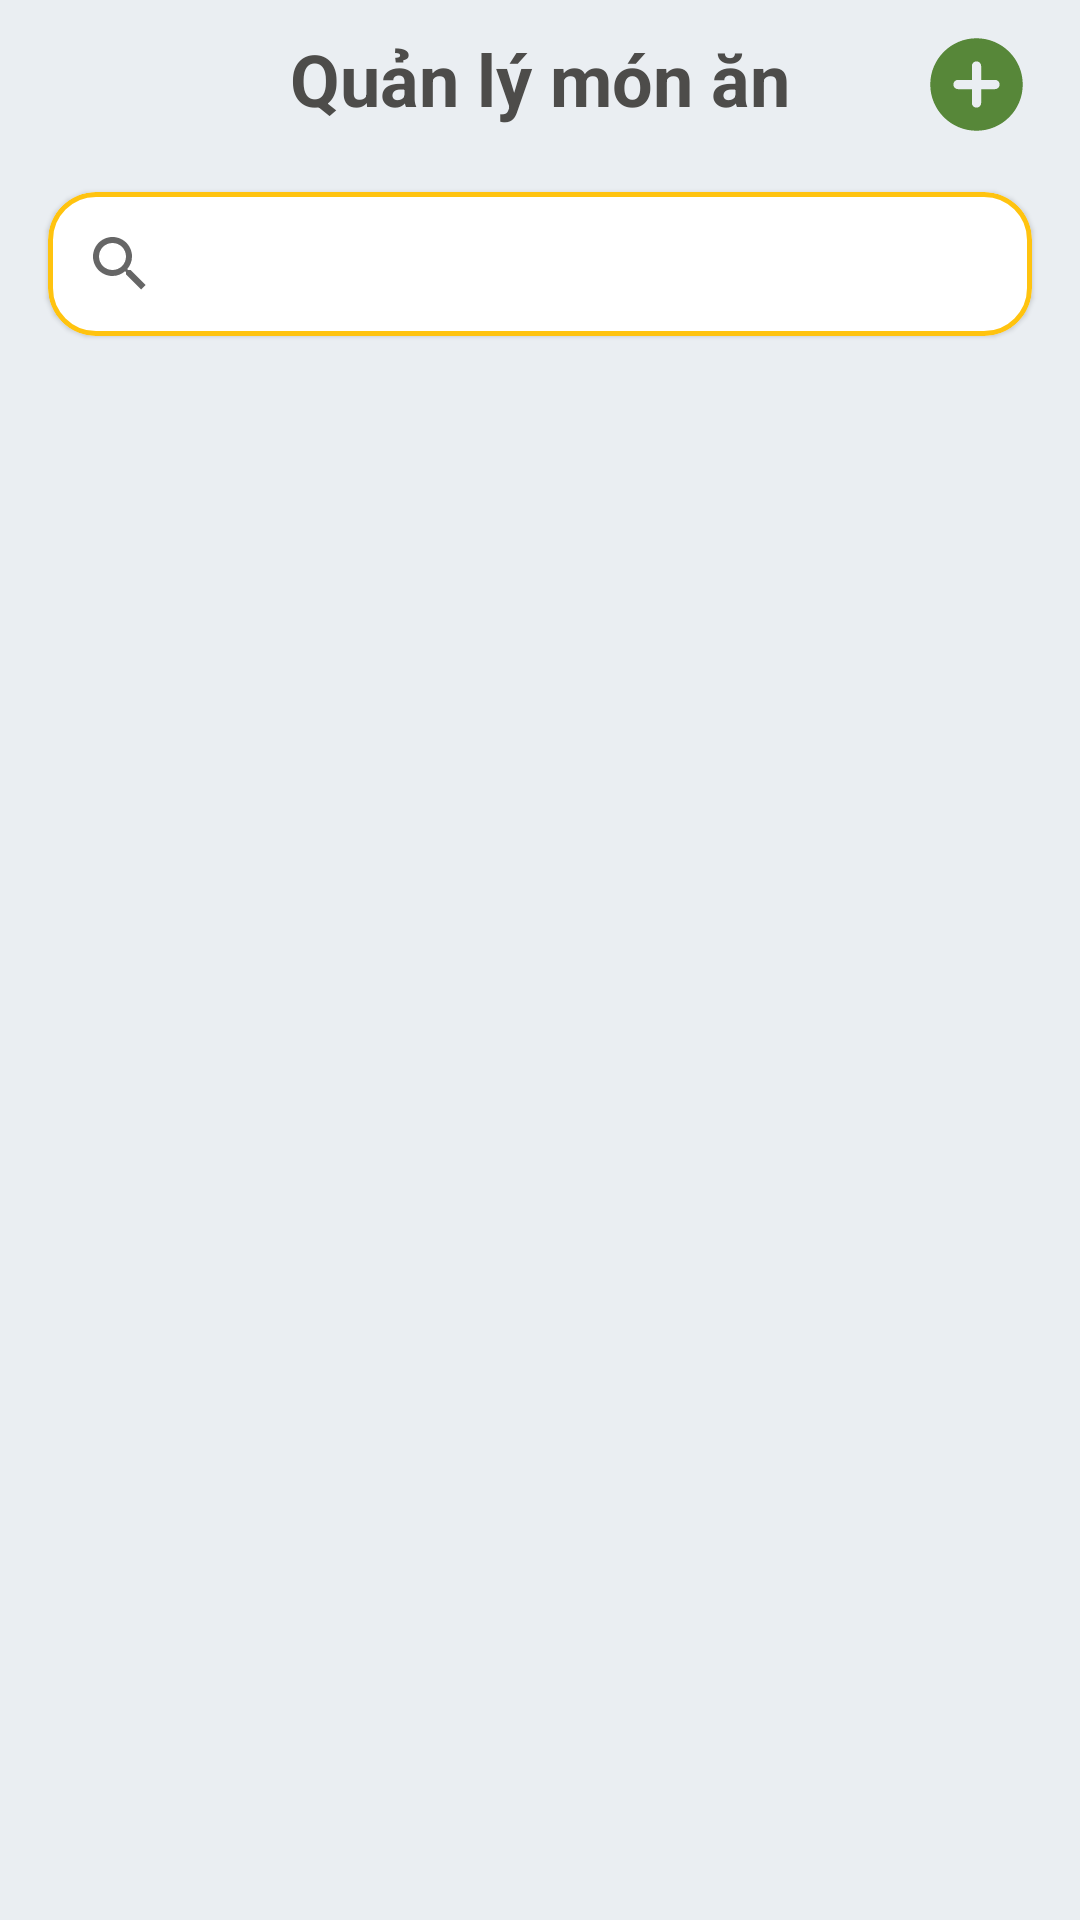

Screen size 1080×1920. Icon name, then its box in pixels as (x1, y1, x2, y2):
add circle: (930, 38, 1023, 131)
